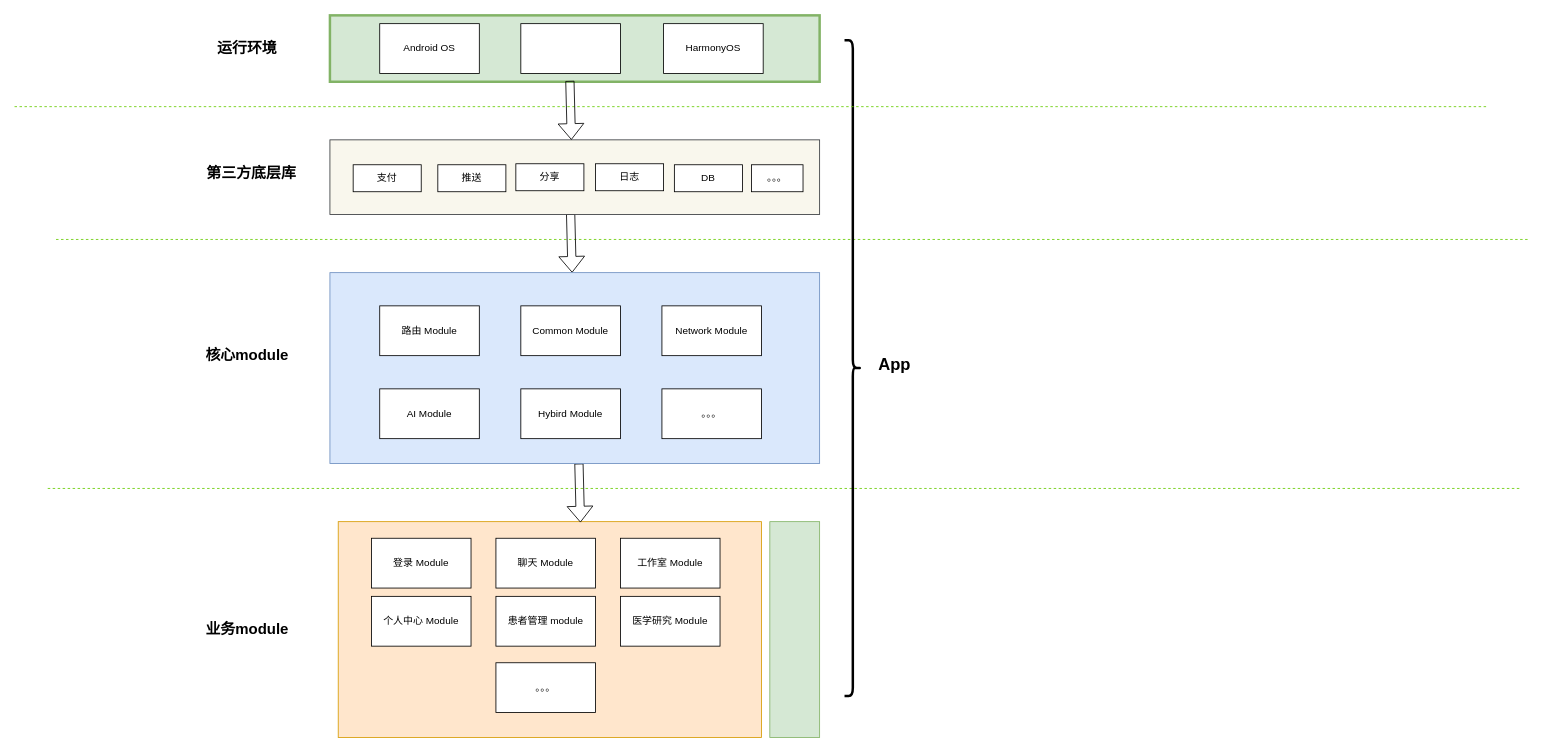
Some shapes in this 1545 by 752 pixel diagram are drawn without their labels. Each missing label, with the box of its shape:
iOS: (520, 23, 620, 73)
路 由 分 发 通 信: (769, 521, 820, 737)
